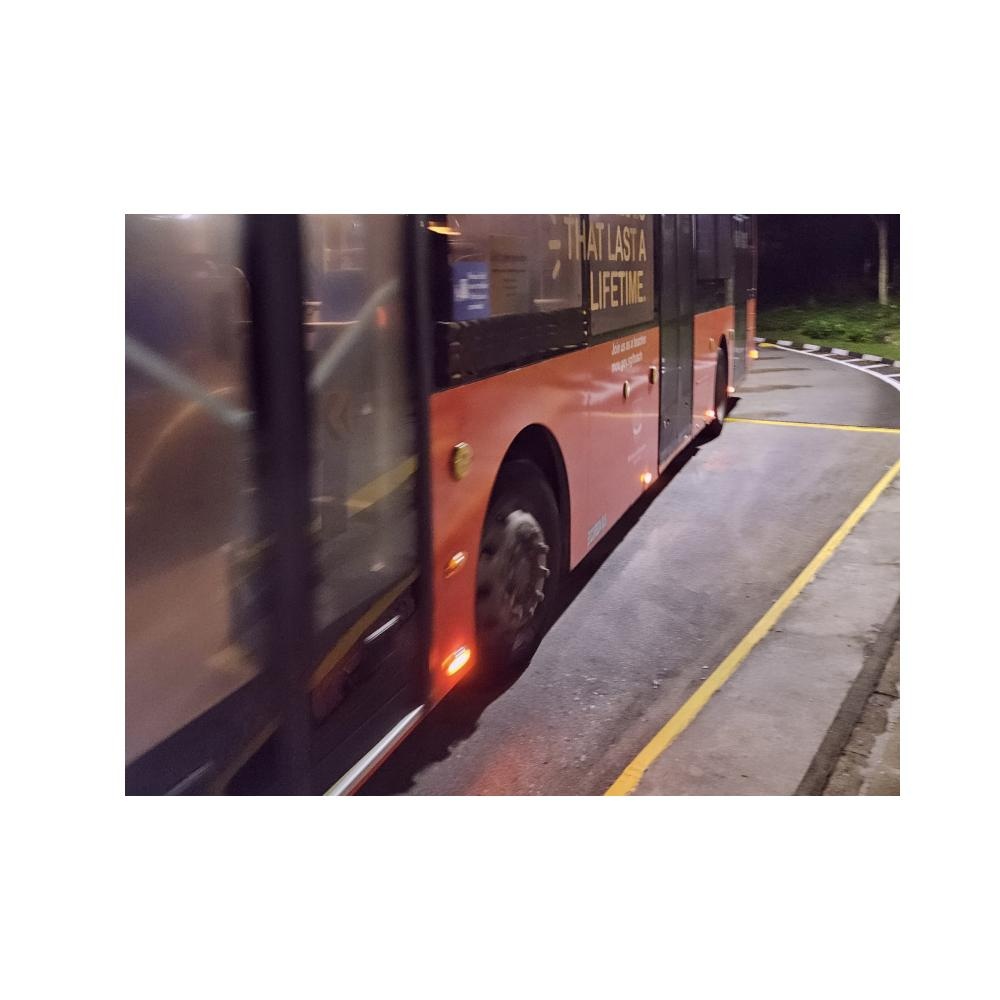bus: (128, 214, 756, 794)
